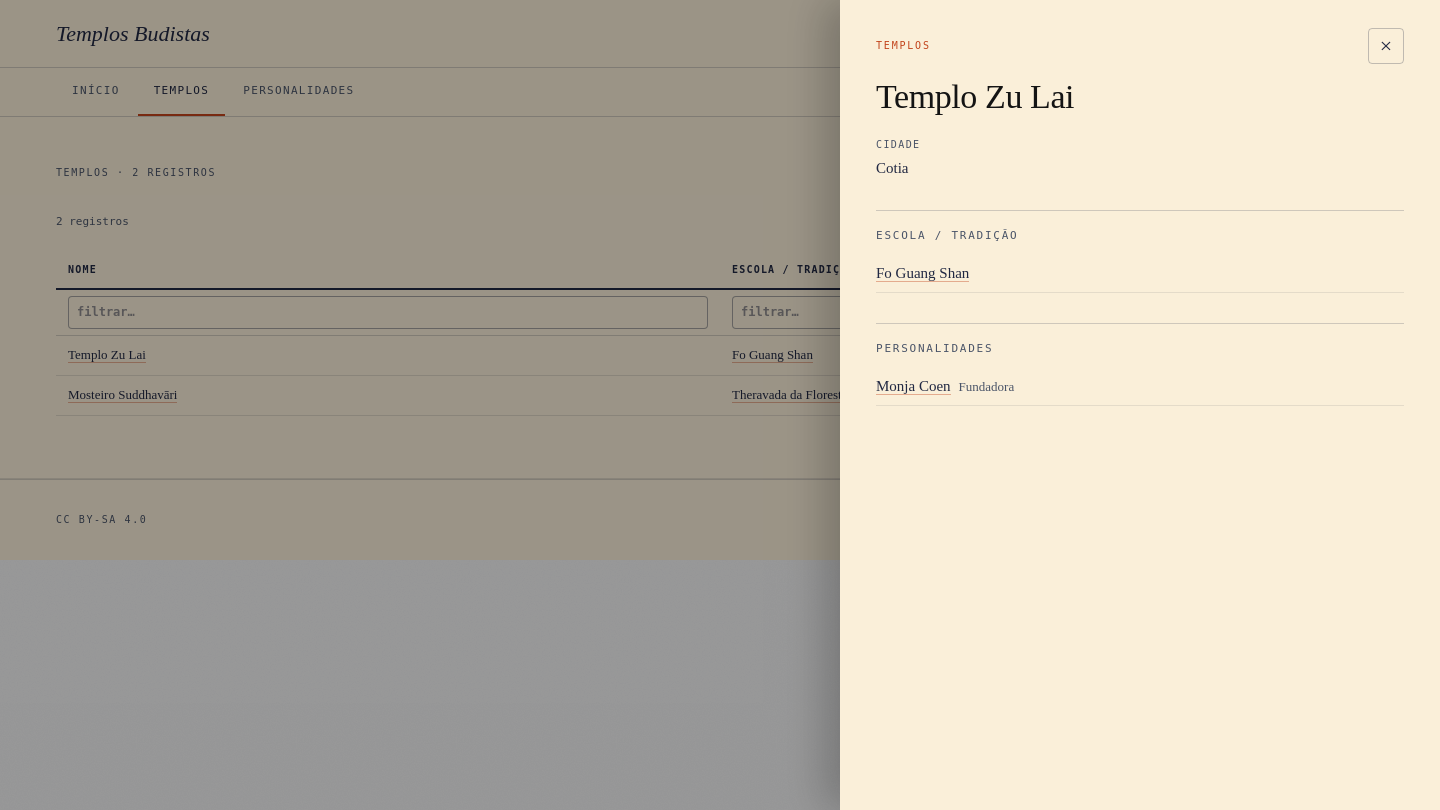
Scenario: ficha › relacionado navega pra ficha do outro
Click the link with class "atlas-link" showing "Monja Coen" at (913, 386), box [876,378,951,395]
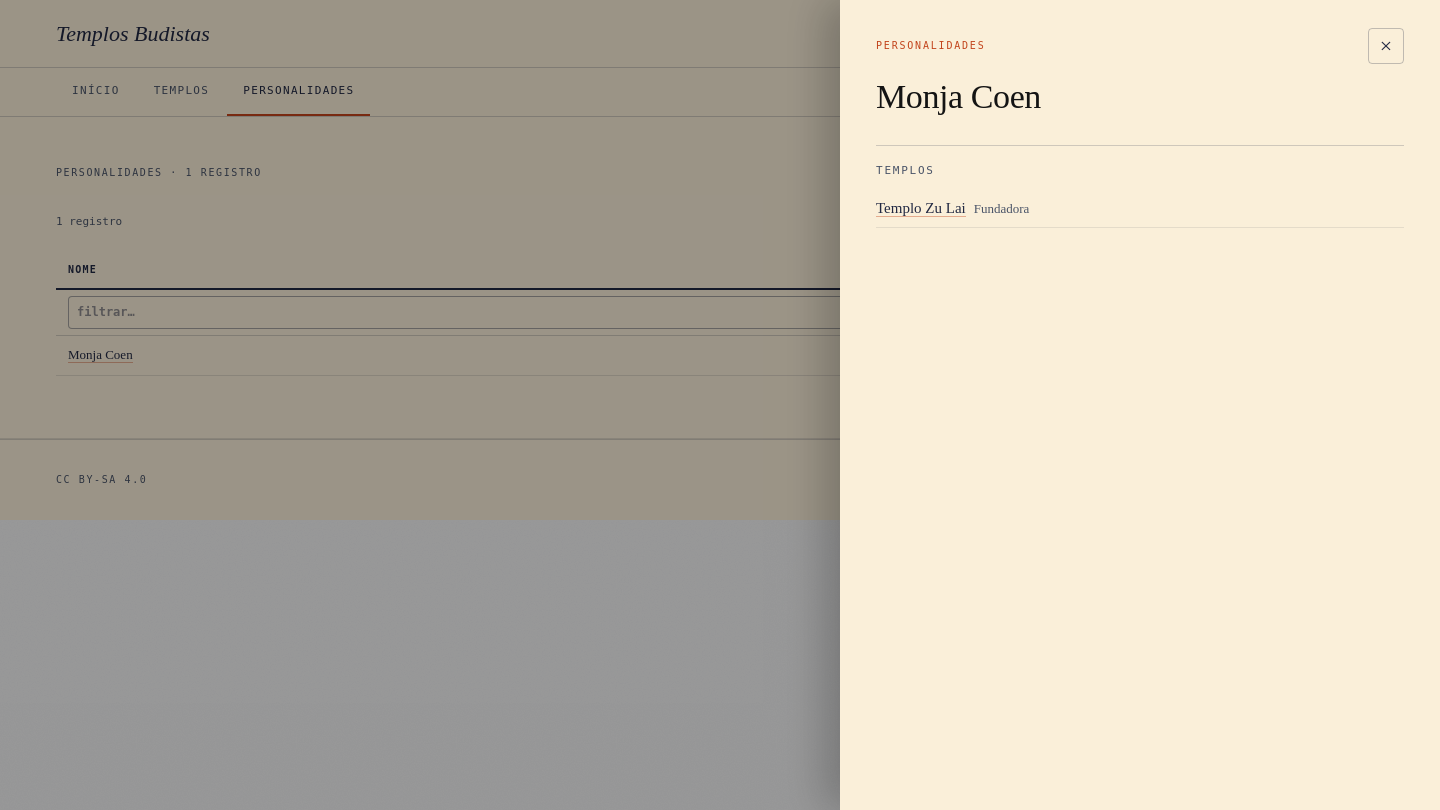
Result: the heading "Monja Coen" is shown at [876,78,1041,115]
